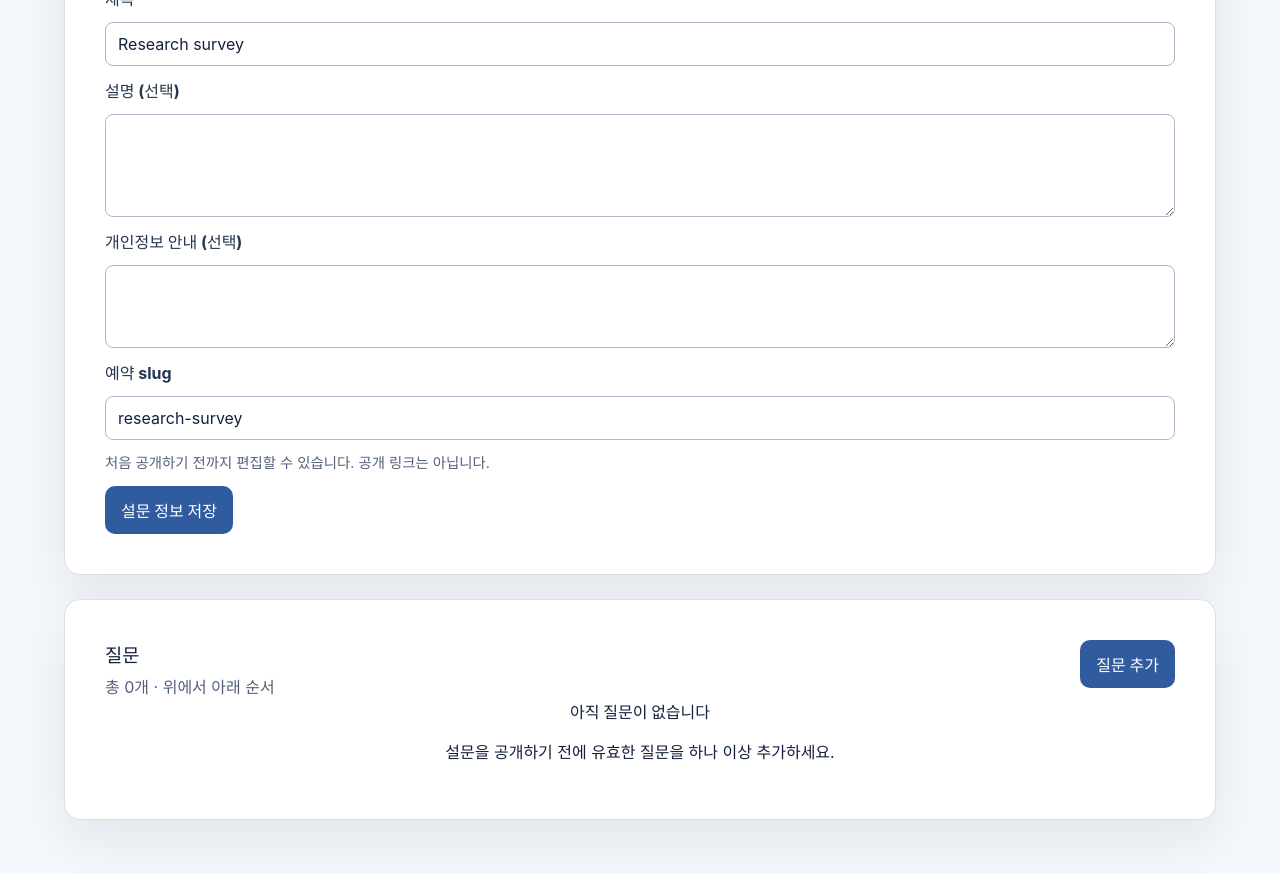
Test: Question Builder workflow › should_createChoiceQuestion_withCompleteNormalizedPayload
(page scrolled)
Click the button "질문 추가".
click(1128, 664)  # box [1080,640,1175,688]
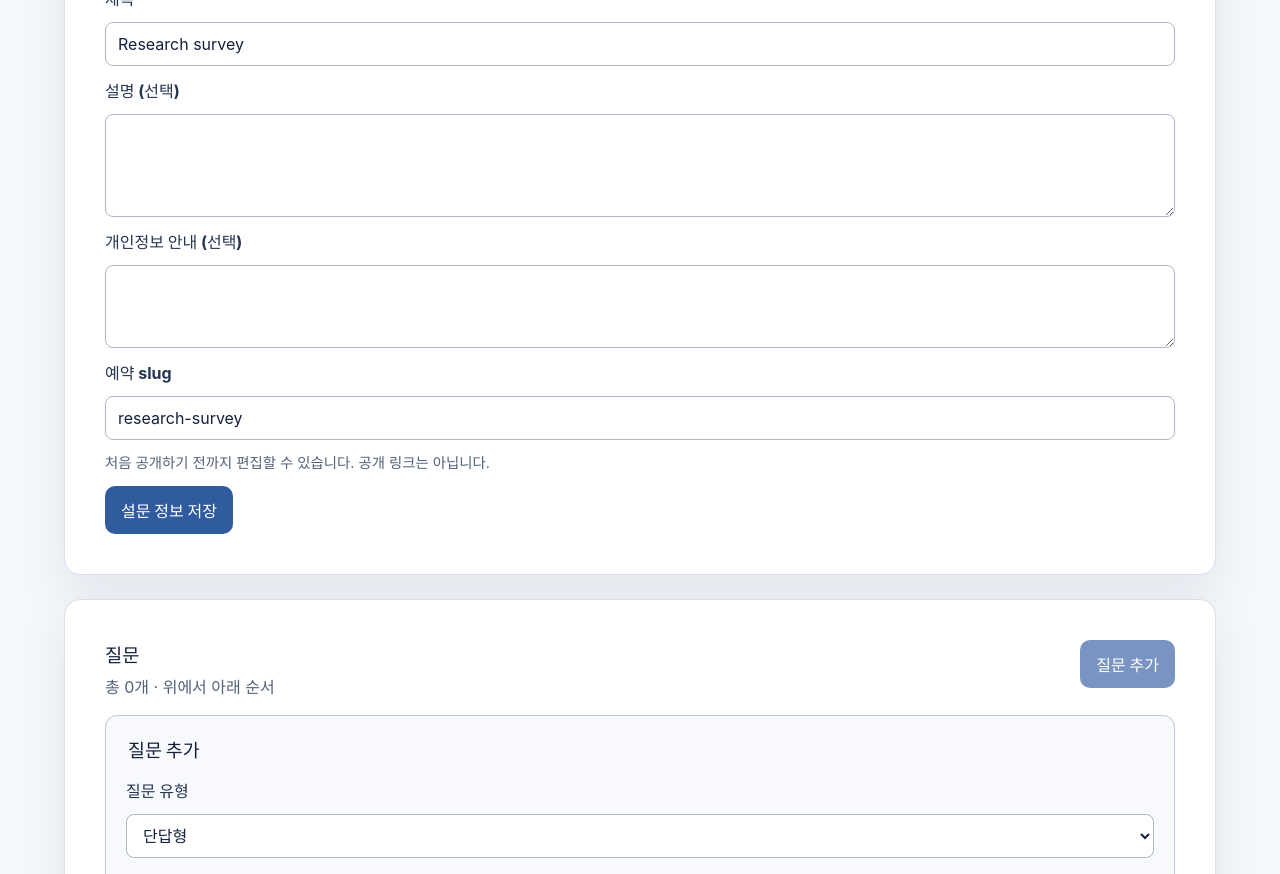
Select "단일 선택" in the dropdown labelled "질문 유형" at (640, 836), box [126,814,1154,858]
(page scrolled)
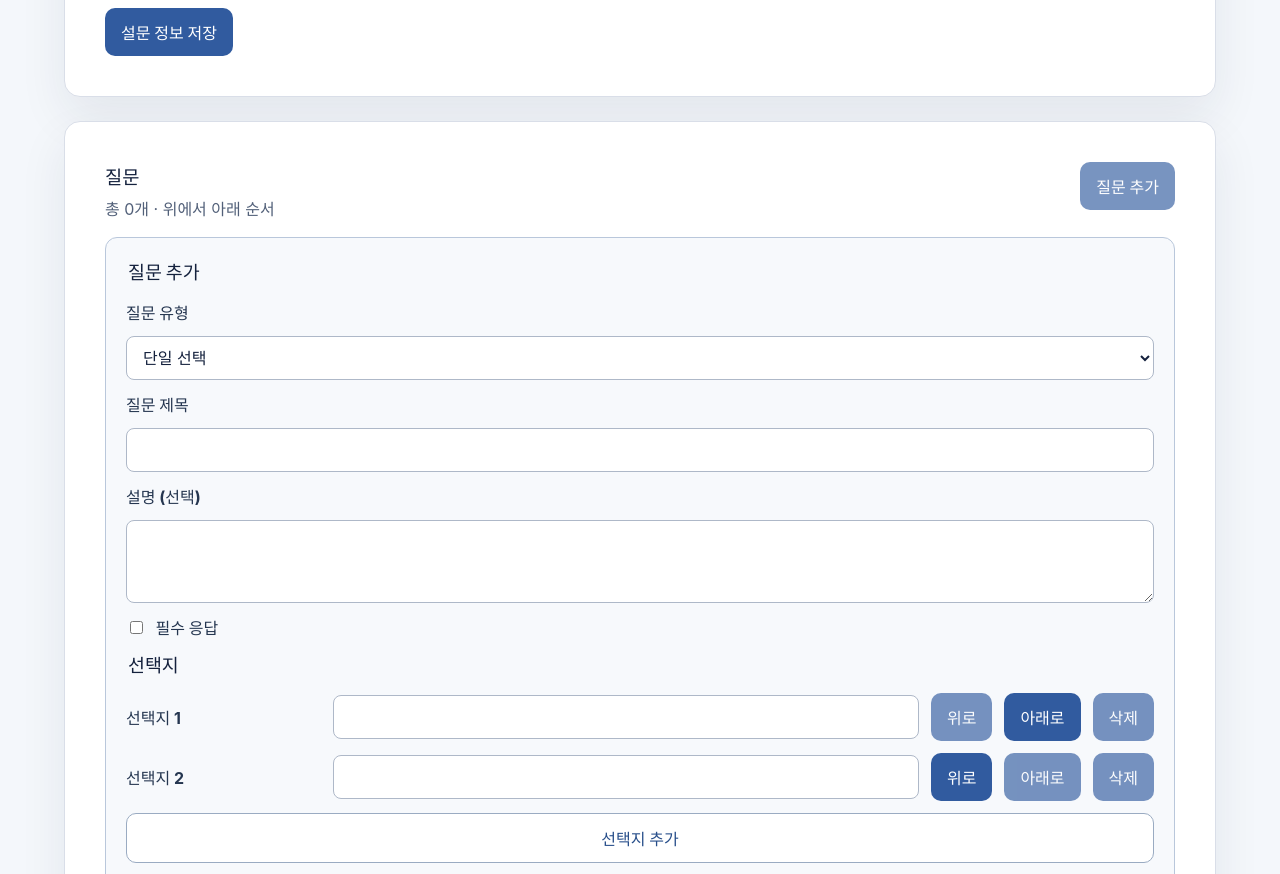
Type "Choose one" into the field labelled "질문 제목".
click(640, 450); type("Choose one")  # box [126,428,1154,472]
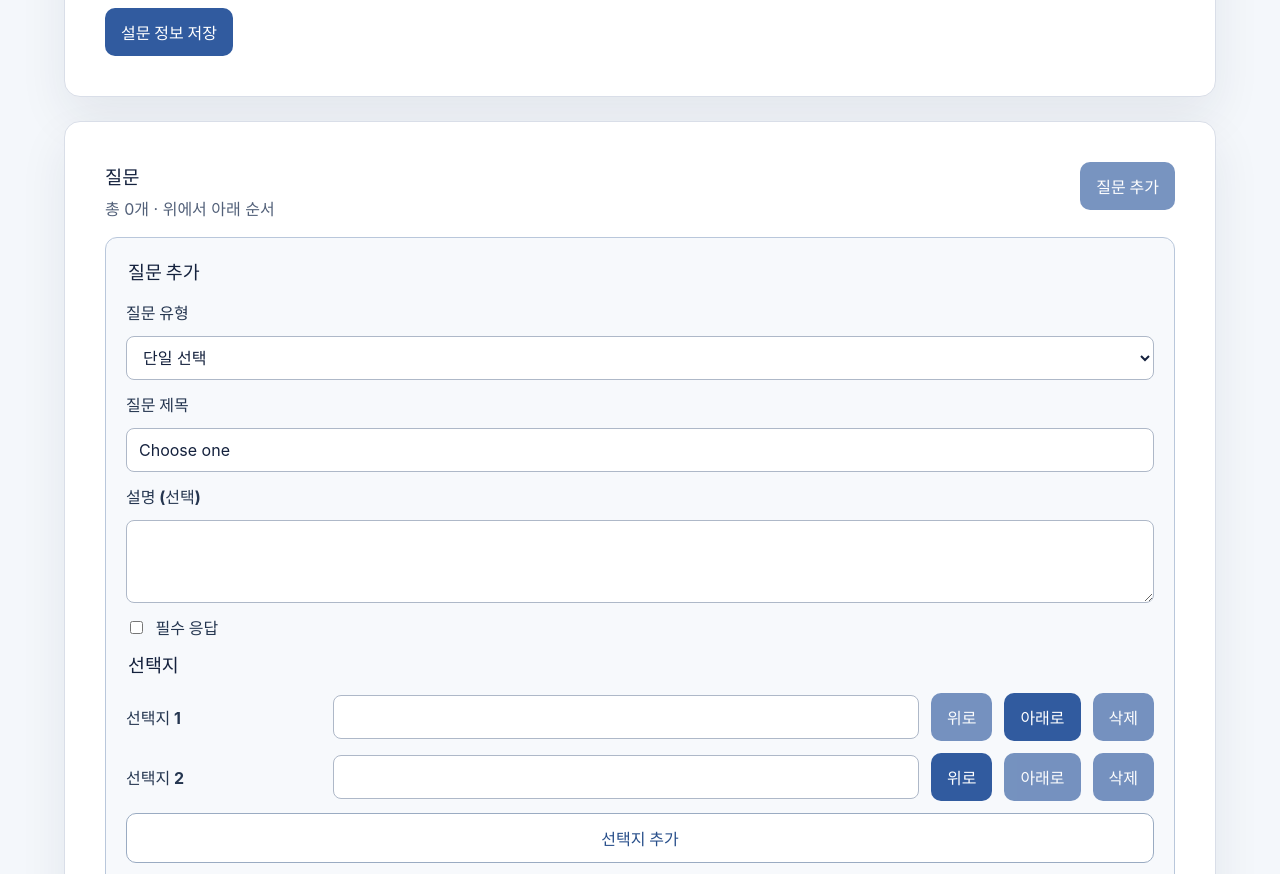
Type "Alpha" into the field labelled "선택지 1".
click(626, 717); type("Alpha")  # box [333,695,919,739]
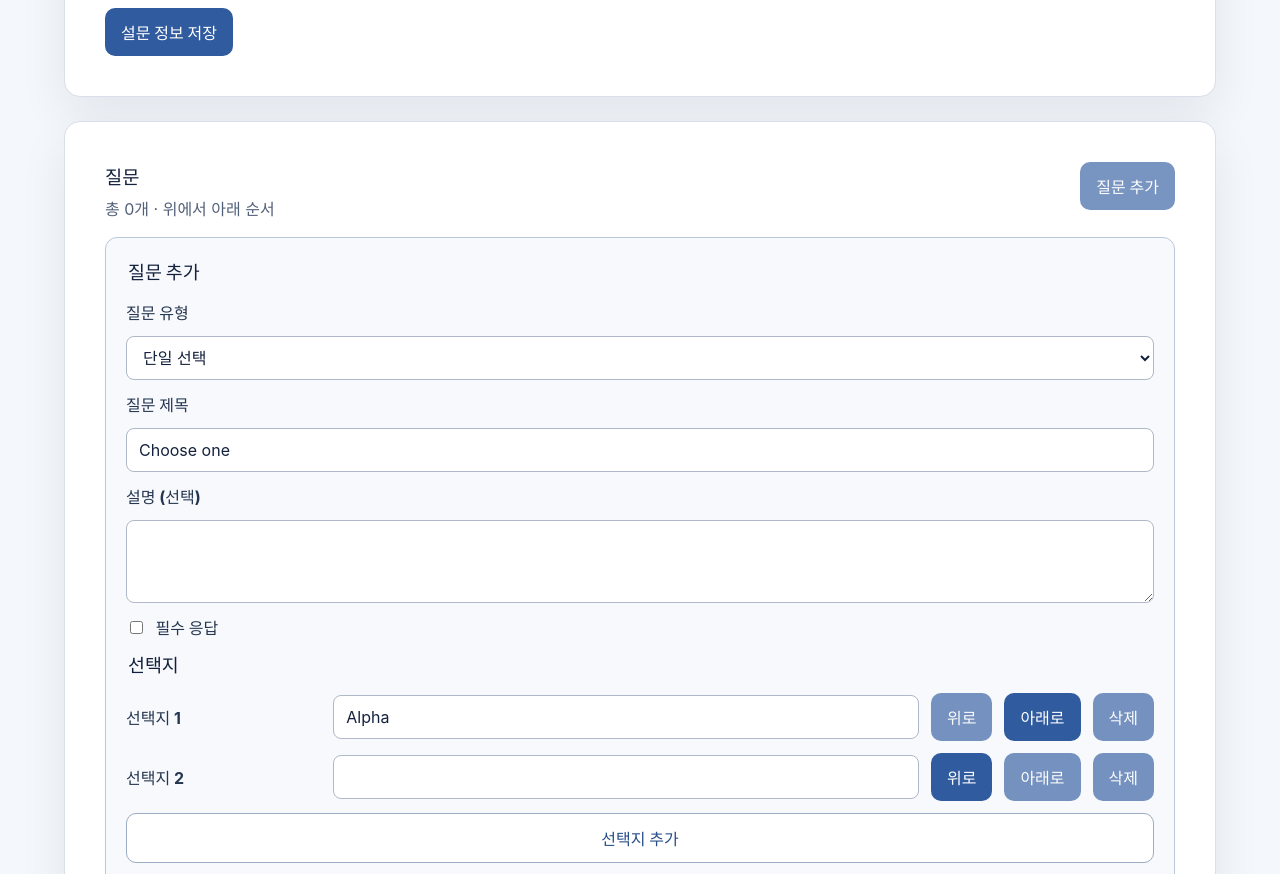
Type "Beta" into the field labelled "선택지 2".
click(626, 777); type("Beta")  # box [333,755,919,799]
(page scrolled)
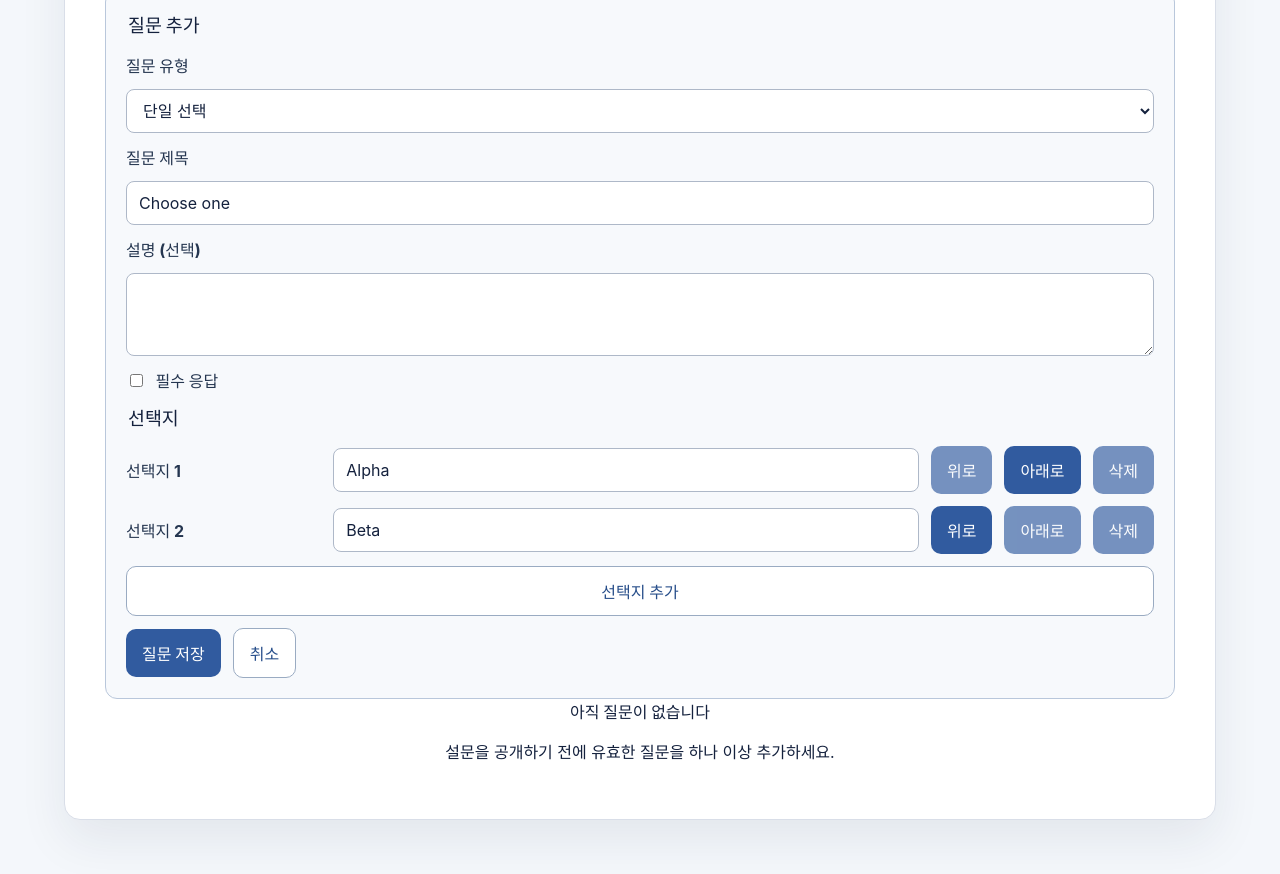
Click the button "질문 저장".
click(173, 653)  # box [126,629,221,677]
(page scrolled)
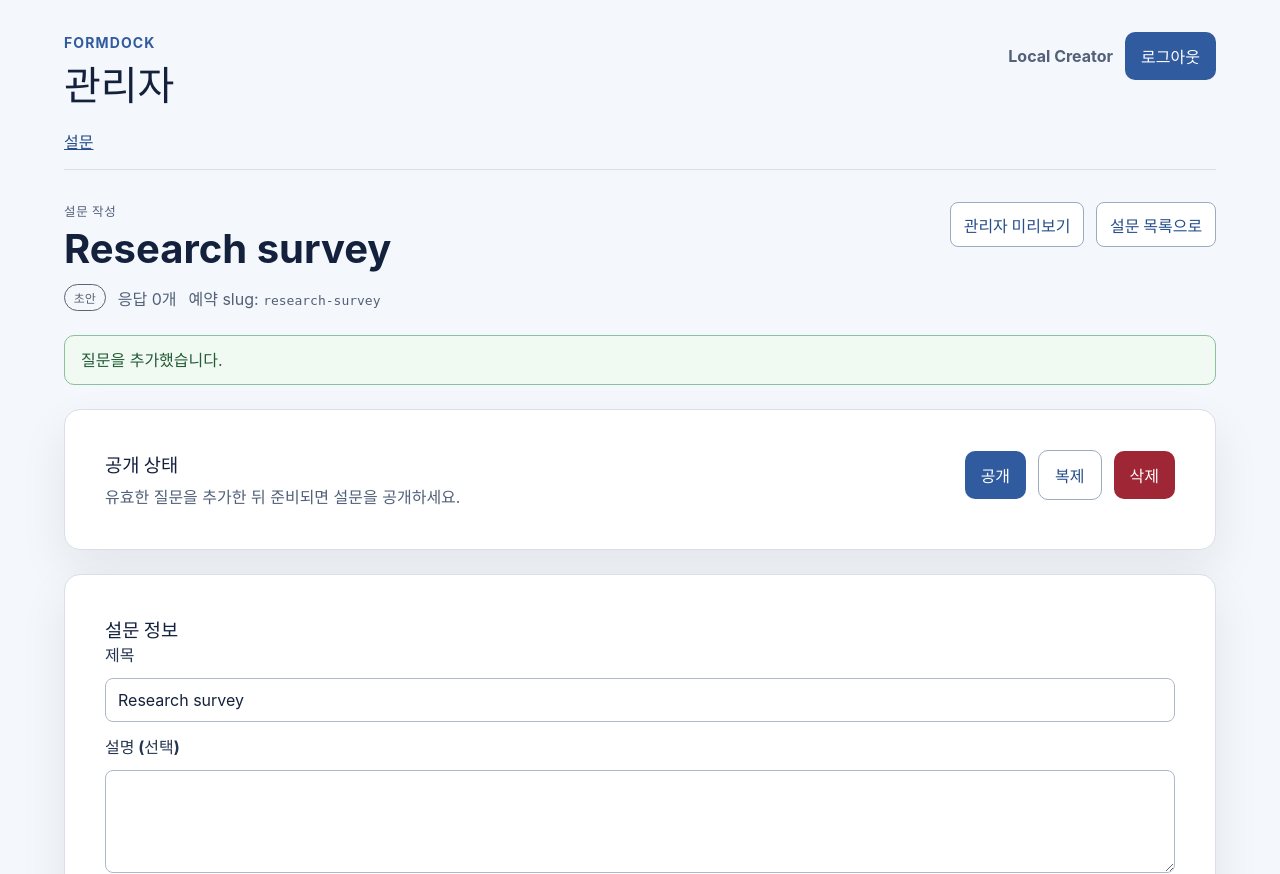
Expected: the text "질문을 추가했습니다." is shown, [64,335,1216,385]
